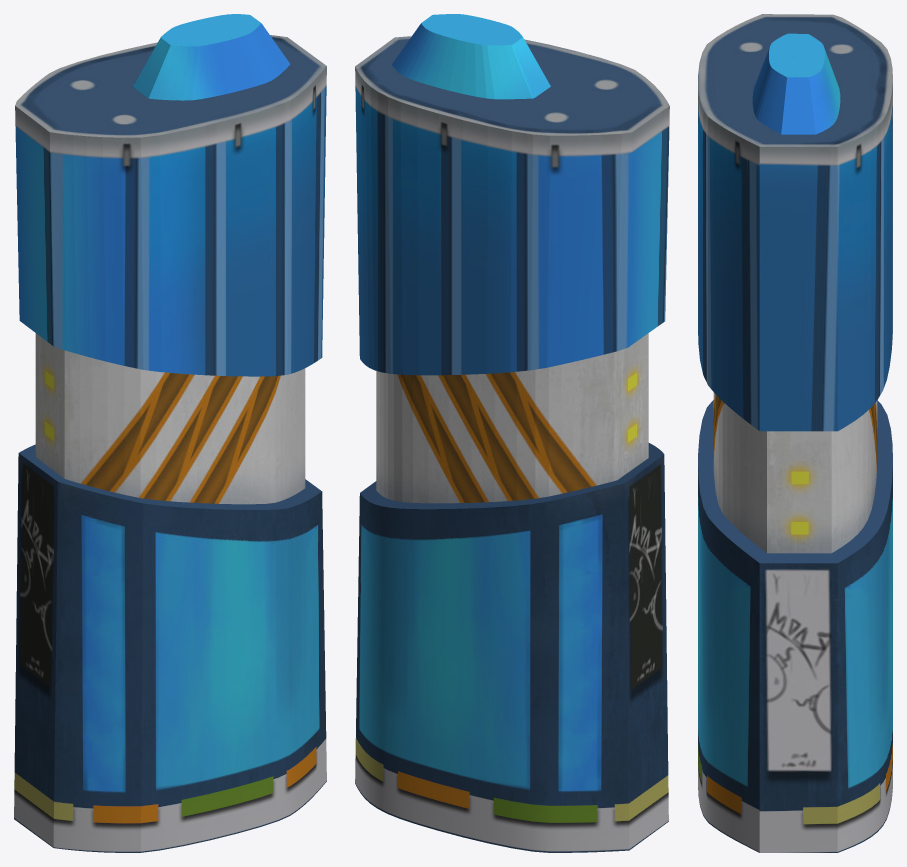
The model's file is House_23.FBX.
3 renders of one model, left to right at view 1: azimuth 30°, elevation 25°; view 2: azimuth 150°, elevation 25°; view 3: azimuth 270°, elevation 25°, orthographic.
Parts seen in each view (by area): view 1: House_23; view 2: House_23; view 3: House_23.
Part boxes in pixels (<box>): House_23: <box>14,14,326,852</box>; House_23: <box>355,14,669,852</box>; House_23: <box>698,14,892,852</box>.
Bounding box in the file's own units: 40.35 × 106 × 25.01.
1 material, 1 textured.
